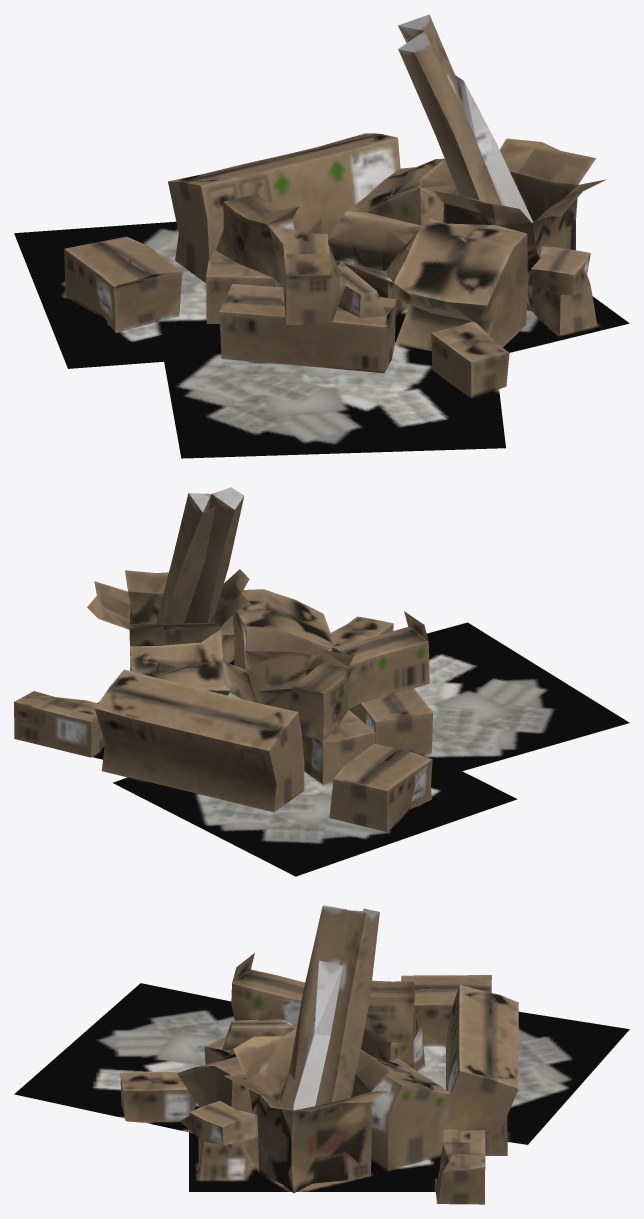
File: cardboard_bundle.glb
3 views of the same model, one above another, from view 1: azimuth 30°, elevation 25°; view 2: azimuth 150°, elevation 25°; view 3: azimuth 270°, elevation 25° (orthographic). The views are drawn at different scales.
Parts seen in each view (by area): view 1: mesh; view 2: mesh; view 3: mesh.
Part boxes in pixels (x1,y1,x2,y2): mesh: (14, 14, 629, 458); mesh: (14, 487, 629, 876); mesh: (14, 905, 629, 1204).
Size of the model in its own units: 0.3053 by 0.15 by 0.3556.
1 material, 1 textured.
